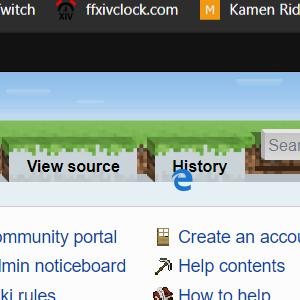edge: (172, 170, 193, 191)
